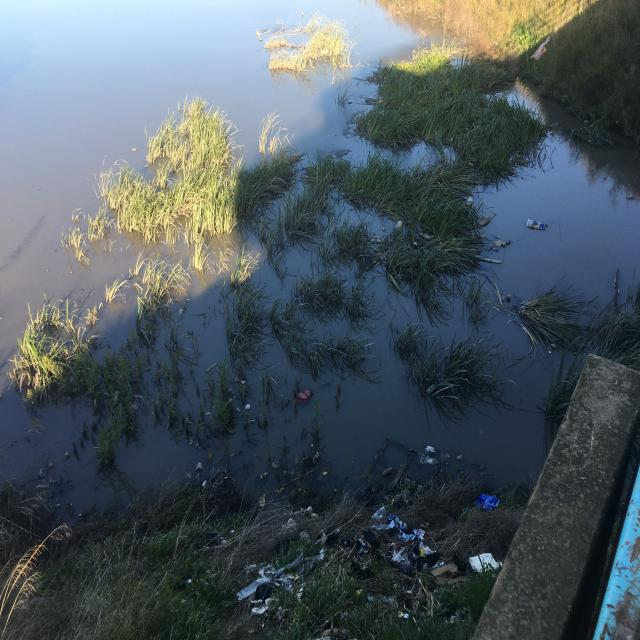Plastic: (394, 220, 402, 234), (456, 453, 463, 461)
Plastic bag: (418, 444, 451, 466), (241, 438, 259, 448), (194, 462, 204, 473), (272, 458, 280, 471), (245, 403, 251, 411)
Plastic bottle: (381, 465, 393, 477), (260, 470, 270, 479), (421, 233, 431, 240), (466, 197, 473, 206), (178, 308, 183, 317), (506, 294, 512, 300), (617, 288, 620, 296)
Plastic packaging: (526, 218, 546, 232)
Undefined trash: (296, 387, 313, 408), (320, 468, 331, 478)
Wood: (360, 433, 417, 493), (477, 255, 502, 265), (204, 360, 218, 372), (204, 448, 214, 464), (333, 393, 341, 408), (336, 382, 342, 394), (292, 401, 298, 413), (292, 388, 297, 401)
